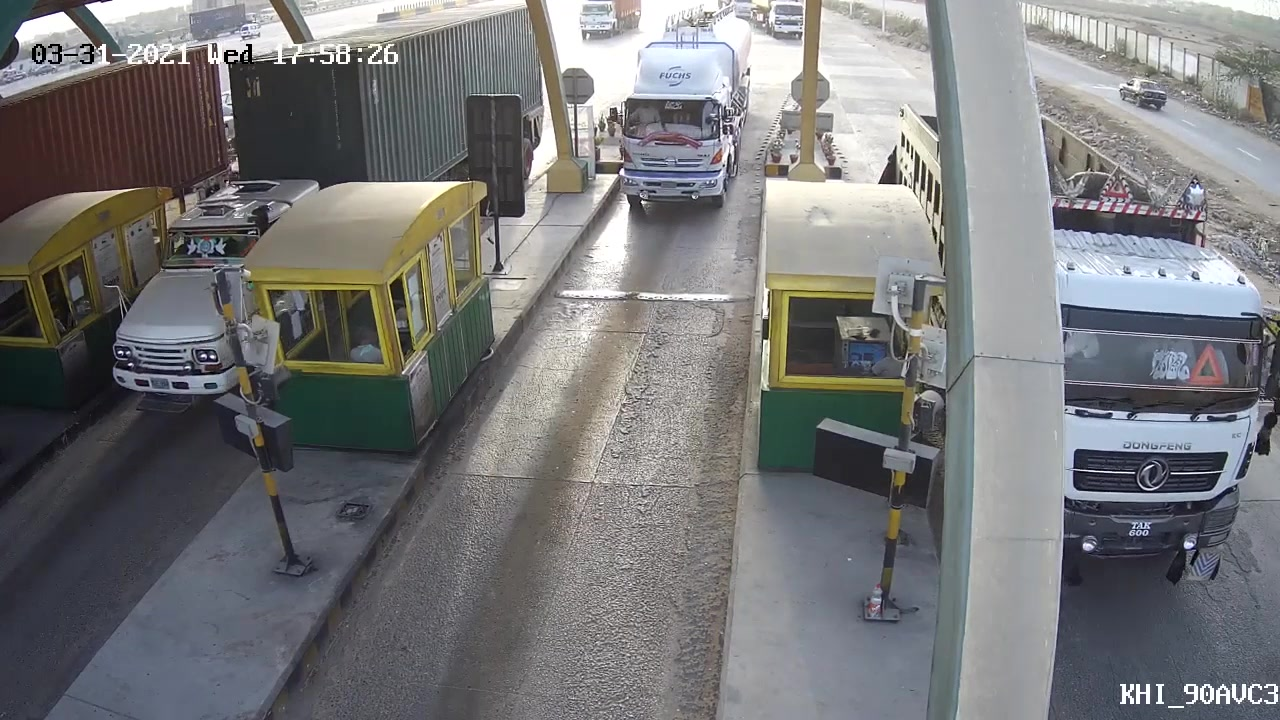F6: (600, 32, 748, 215)
